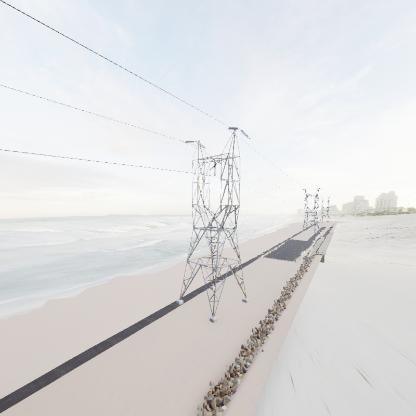tower: (173, 118, 254, 324), (301, 209, 322, 211)
